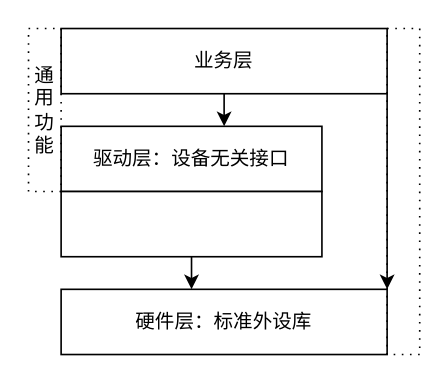
Image size: 448x383. Some labels were removed from this diagram. Here are the shapes that lost their labels. From the top down, the centre of each, then its label:
At (402,191): "性 能 敏 感".
At (190,223): "驱动层：设备相关实现".
